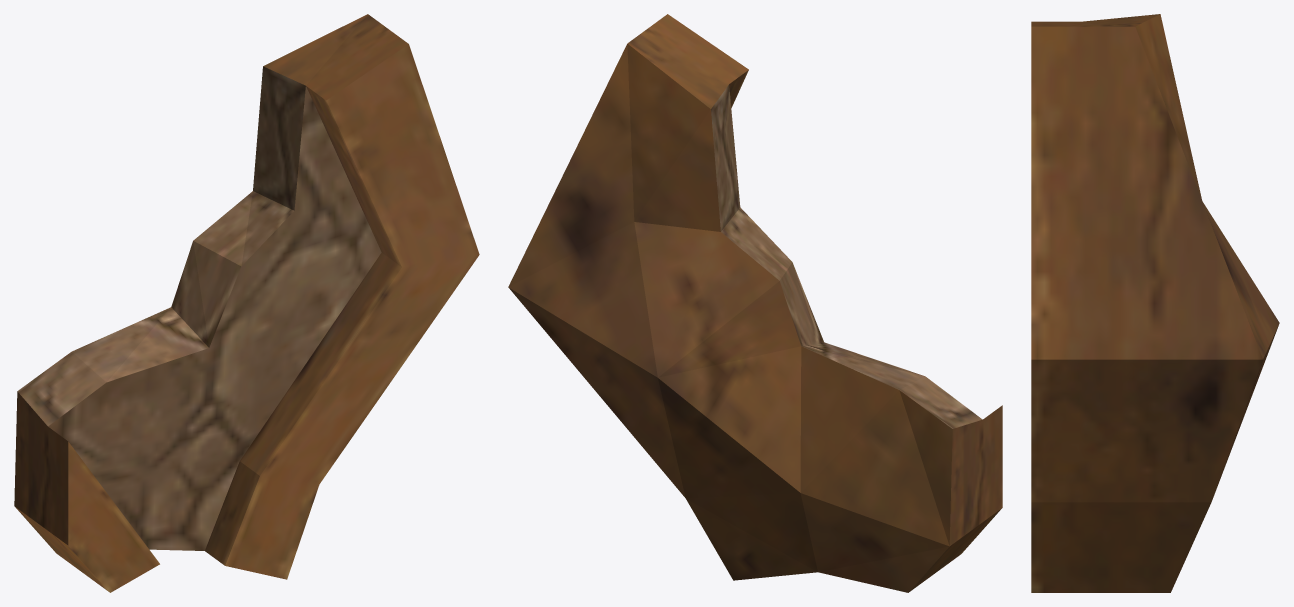
The model's file is shakian_object_dimension_brokenprop01_02.FBX.
The picture shows the model from 3 angles, left to right: view 1: azimuth 30°, elevation 25°; view 2: azimuth 150°, elevation 25°; view 3: azimuth 270°, elevation 25°; orthographic projection. The views are drawn at different scales.
Visible parts, largest first — view 1: shakian_object_dimension_brokenprop01_02; view 2: shakian_object_dimension_brokenprop01_02; view 3: shakian_object_dimension_brokenprop01_02.
Part boxes in pixels (bbox=[...]): shakian_object_dimension_brokenprop01_02: bbox=[14, 14, 479, 592]; shakian_object_dimension_brokenprop01_02: bbox=[508, 14, 1002, 592]; shakian_object_dimension_brokenprop01_02: bbox=[1031, 14, 1279, 592].
Bounding box in the file's own units: 1.84 × 2.16 × 0.7584.
